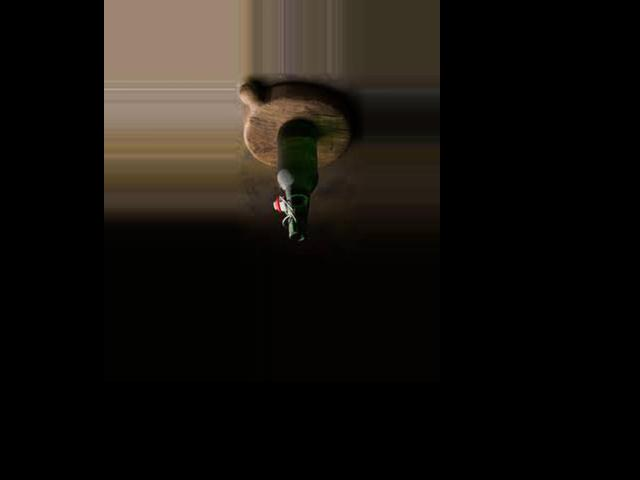beer: (277, 121, 316, 242)
